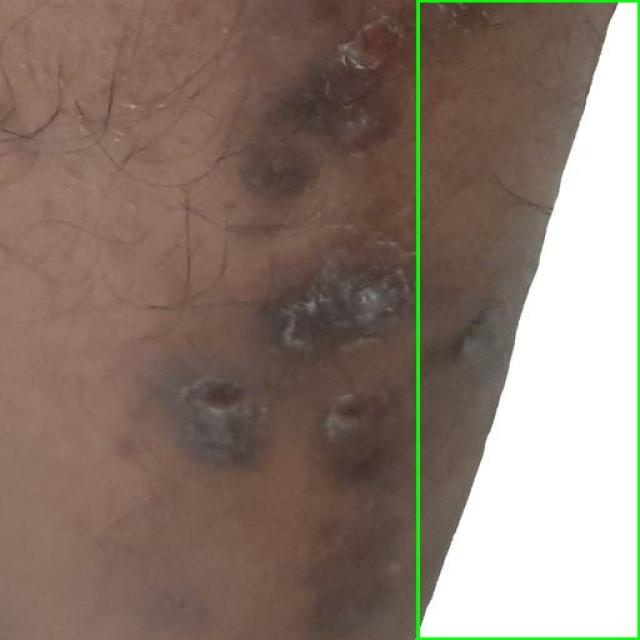Eczema: (418, 0, 639, 639)
